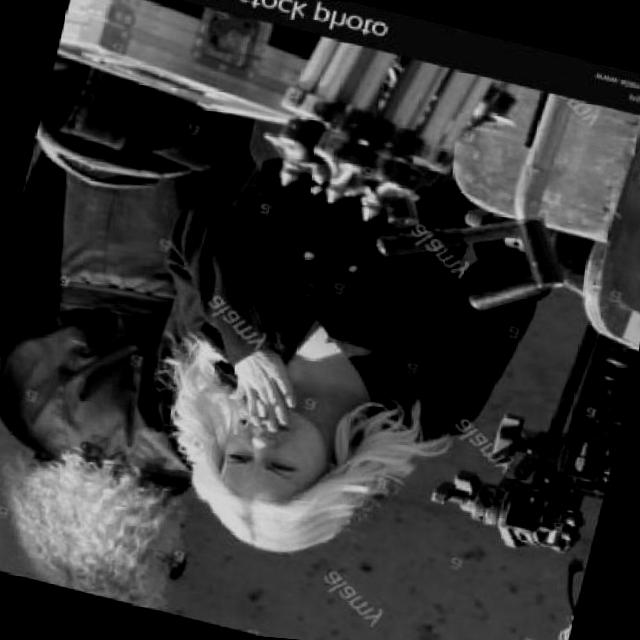smoke: (250, 394, 278, 426)
